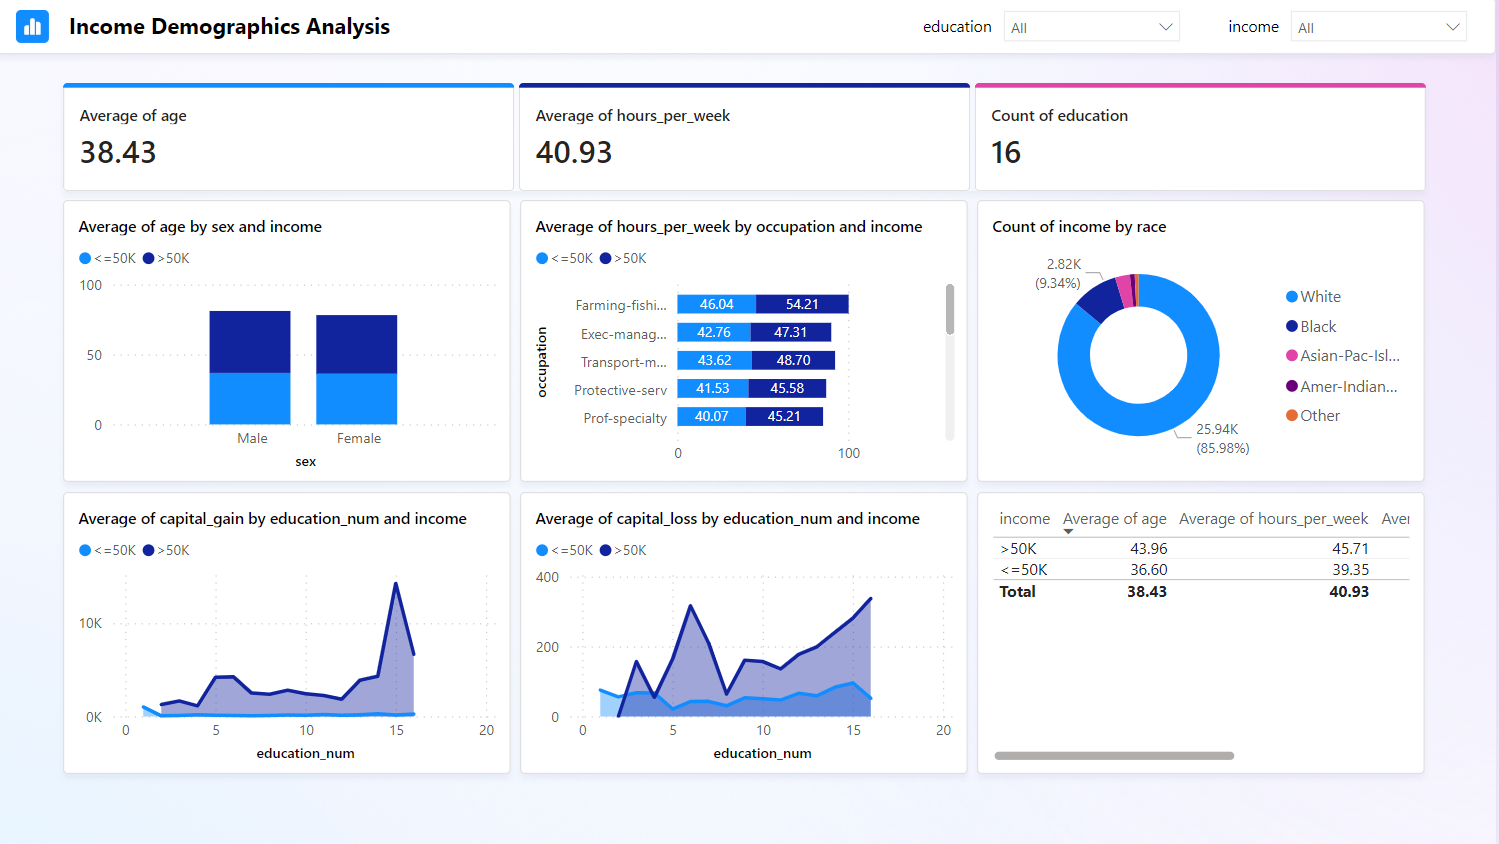

Layout of this report page (visuals, bound fields, positions):
{"tool":"powerbi","page":{"name":"Income Demographics Analysis","canvas":[1280,720],"ordinal":0},"visuals":[{"type":"shape","box":[0,0,1280,48],"z":0},{"type":"tableEx","fields":{"Values":["incomedemographicsanalysis.income","Avg(incomedemographicsanalysis.age)","Avg(incomedemographicsanalysis.hours_per_week)","Avg(incomedemographicsanalysis.capital_gain)","Avg(incomedemographicsanalysis.capital_loss)"]},"box":[838,420,381,240],"z":1000},{"type":"areaChart","fields":{"Category":["incomedemographicsanalysis.education_num"],"Series":["incomedemographicsanalysis.income"],"Y":["Avg(incomedemographicsanalysis.capital_loss)"]},"box":[449,420,381,240],"z":2000},{"type":"areaChart","fields":{"Category":["incomedemographicsanalysis.education_num"],"Series":["incomedemographicsanalysis.income"],"Y":["Avg(incomedemographicsanalysis.capital_gain)"]},"box":[60,420,381,240],"z":3000},{"type":"donutChart","fields":{"Category":["incomedemographicsanalysis.race"],"Y":["CountNonNull(incomedemographicsanalysis.income)"]},"box":[838,172,381,240],"z":4000},{"type":"barChart","fields":{"Category":["incomedemographicsanalysis.occupation"],"Series":["incomedemographicsanalysis.income"],"Y":["Avg(incomedemographicsanalysis.hours_per_week)"]},"box":[449,172,381,240],"z":5000},{"type":"columnChart","fields":{"Category":["incomedemographicsanalysis.sex"],"Series":["incomedemographicsanalysis.income"],"Y":["Avg(incomedemographicsanalysis.age)"]},"box":[60,172,381,240],"z":6000},{"type":"textbox","box":[768,10,88,32],"z":7000},{"type":"slicer","fields":{"Values":["incomedemographicsanalysis.education"]},"box":[856,6,160,36],"z":8000},{"type":"textbox","box":[1032,10,68,32],"z":9000},{"type":"slicer","fields":{"Values":["incomedemographicsanalysis.income"]},"box":[1100,6,160,36],"z":10000},{"type":"cardVisual","fields":{"Data":["Avg(incomedemographicsanalysis.age)","Avg(incomedemographicsanalysis.hours_per_week)","Count(incomedemographicsanalysis.education)"]},"box":[60,72,1160,92],"z":11000},{"type":"textbox","box":[60,6,600,40],"z":12000},{"type":"image","box":[20,10,28,28],"z":13000}]}

Visuals, with their boxes in screenshot pixels (x1, y1, x2, y2):
shape: pyautogui.locateOnScreen(82, 27, 1498, 83)
tableEx - incomedemographicsanalysis.income x Avg(incomedemographicsanalysis.age): pyautogui.locateOnScreen(1050, 512, 1490, 790)
areaChart - incomedemographicsanalysis.education_num x incomedemographicsanalysis.income: pyautogui.locateOnScreen(601, 512, 1041, 790)
areaChart - incomedemographicsanalysis.education_num x incomedemographicsanalysis.income: pyautogui.locateOnScreen(151, 512, 591, 790)
donutChart - incomedemographicsanalysis.race x CountNonNull(incomedemographicsanalysis.income): pyautogui.locateOnScreen(1050, 226, 1490, 503)
barChart - incomedemographicsanalysis.occupation x incomedemographicsanalysis.income: pyautogui.locateOnScreen(601, 226, 1041, 503)
columnChart - incomedemographicsanalysis.sex x incomedemographicsanalysis.income: pyautogui.locateOnScreen(151, 226, 591, 503)
textbox: pyautogui.locateOnScreen(969, 39, 1071, 76)
slicer - incomedemographicsanalysis.education: pyautogui.locateOnScreen(1071, 34, 1255, 76)
textbox: pyautogui.locateOnScreen(1274, 39, 1352, 76)
slicer - incomedemographicsanalysis.income: pyautogui.locateOnScreen(1352, 34, 1498, 76)
cardVisual - Avg(incomedemographicsanalysis.age) x Avg(incomedemographicsanalysis.hours_per_week): pyautogui.locateOnScreen(151, 110, 1491, 217)
textbox: pyautogui.locateOnScreen(151, 34, 844, 80)
image: pyautogui.locateOnScreen(105, 39, 137, 71)
